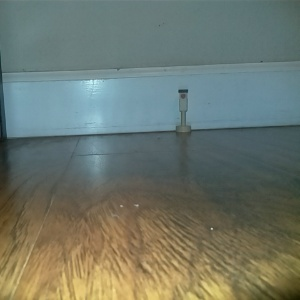traffic light red: (174, 88, 191, 134)
